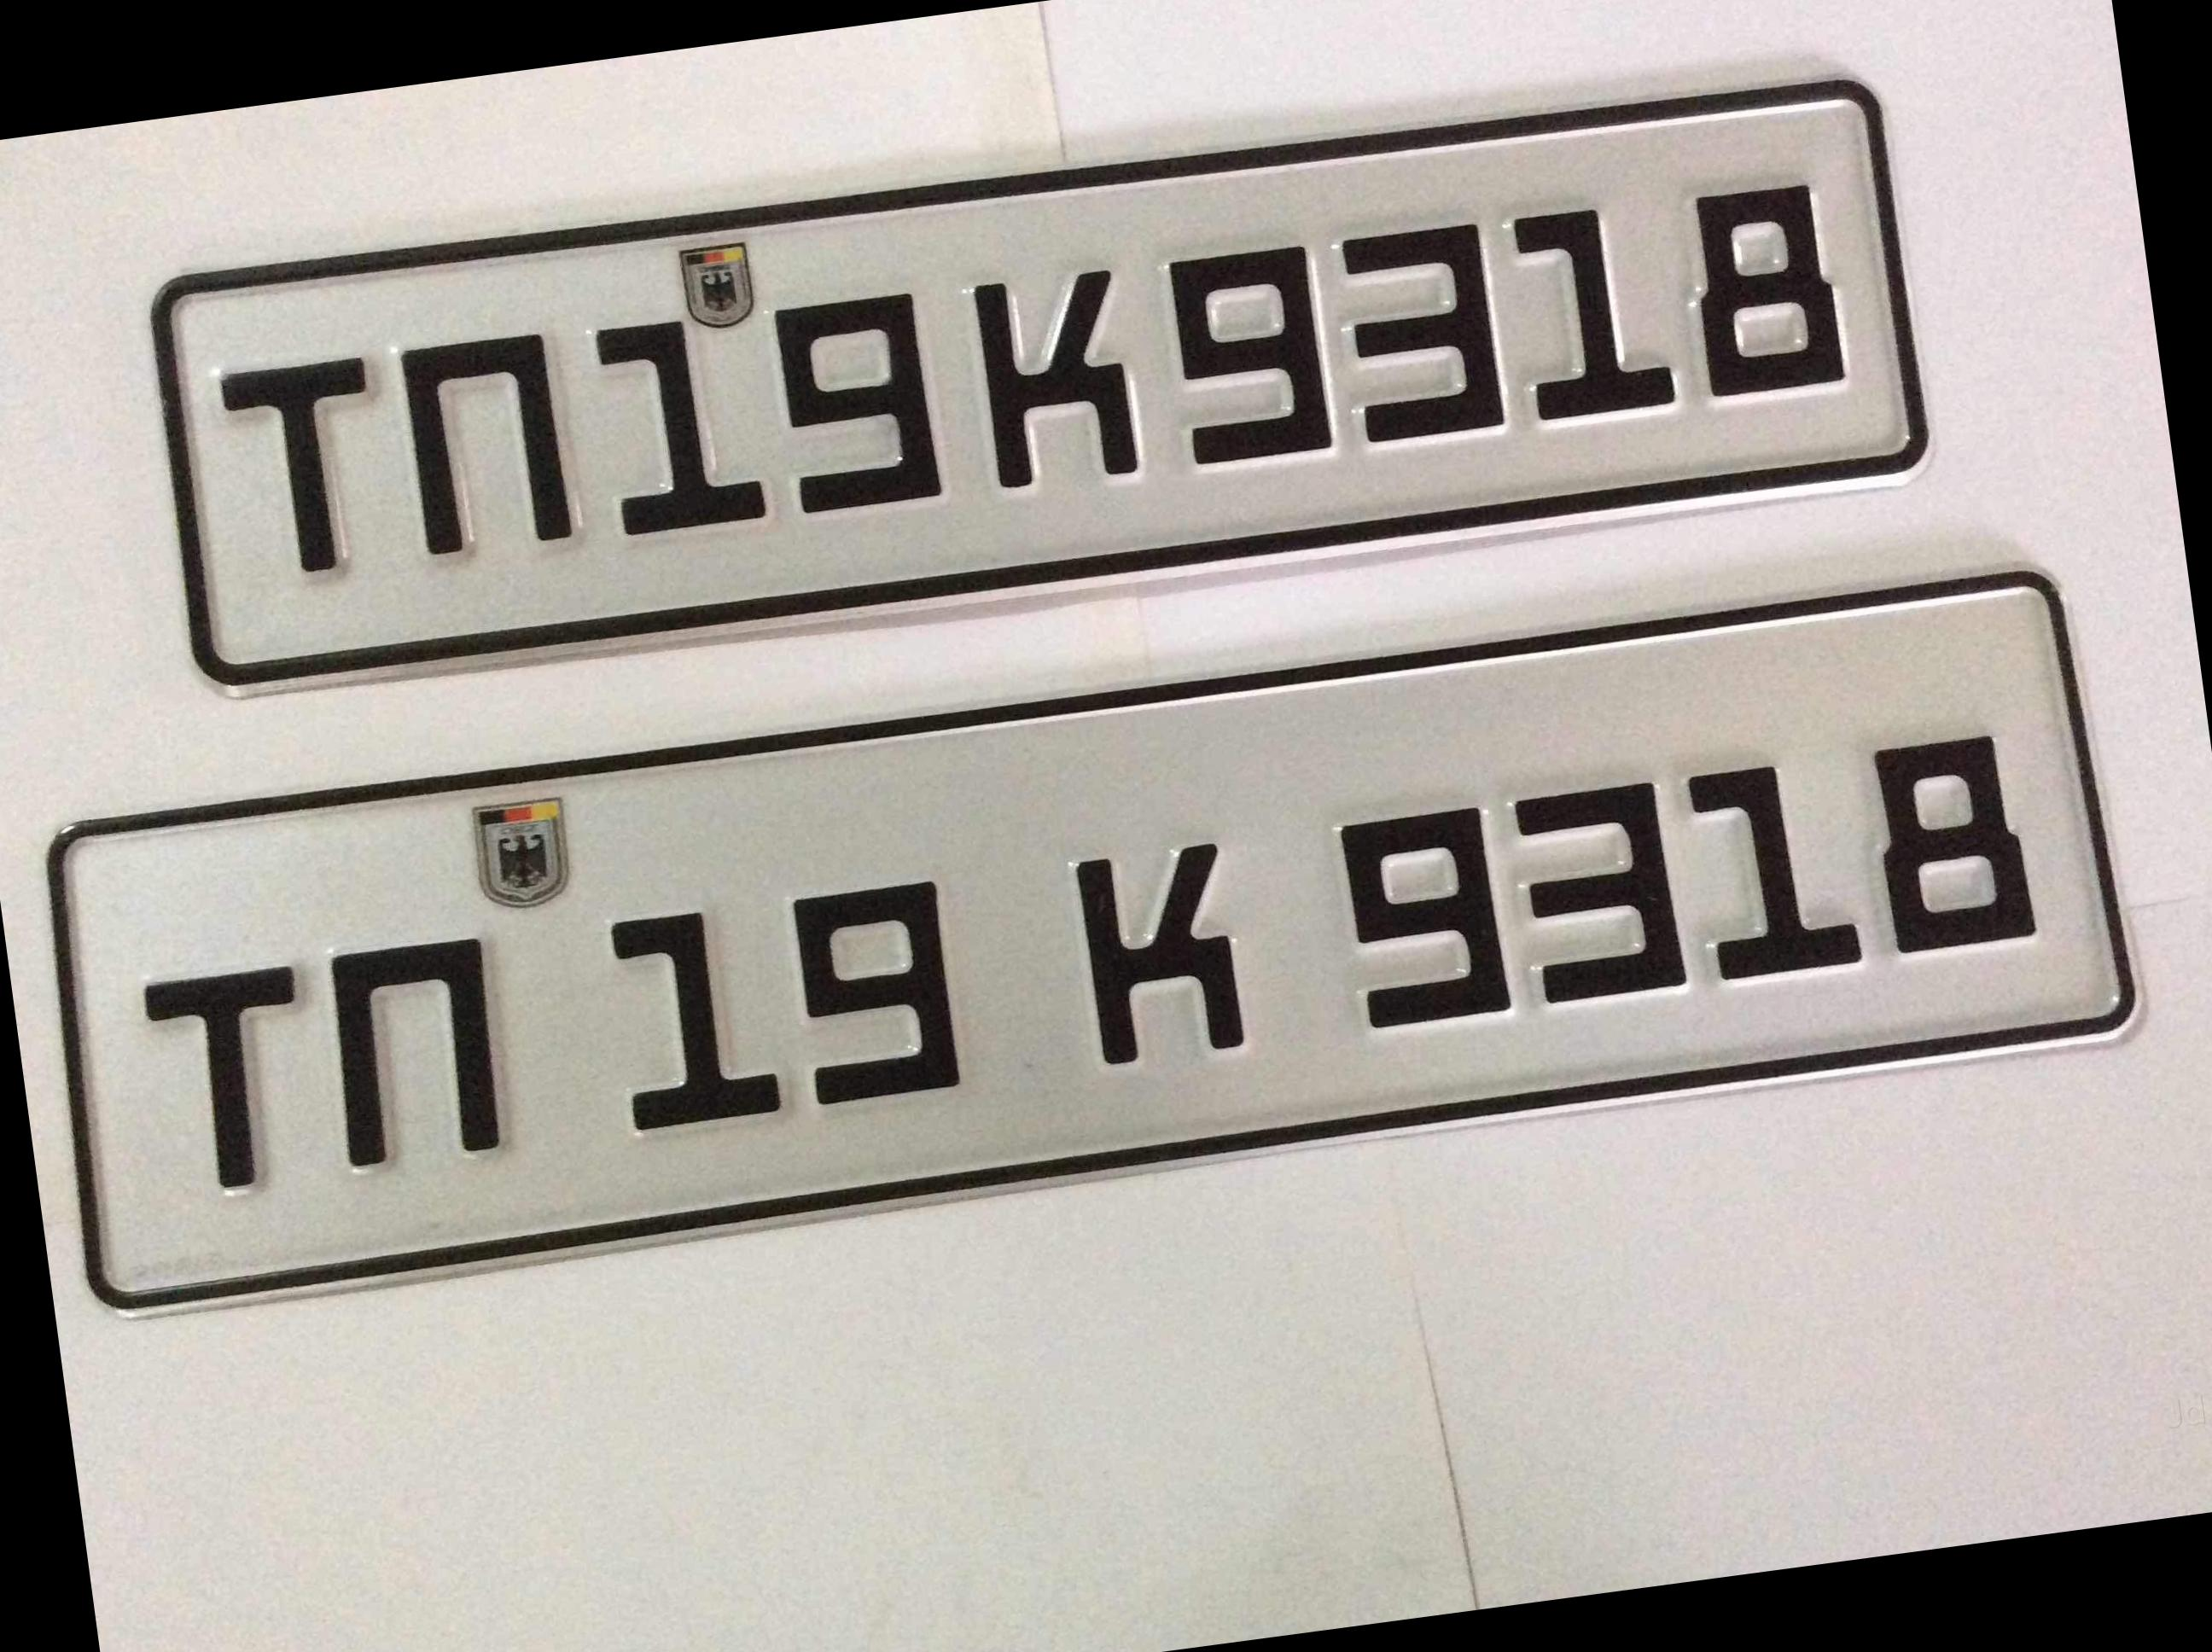plate: (175, 49, 1962, 724)
